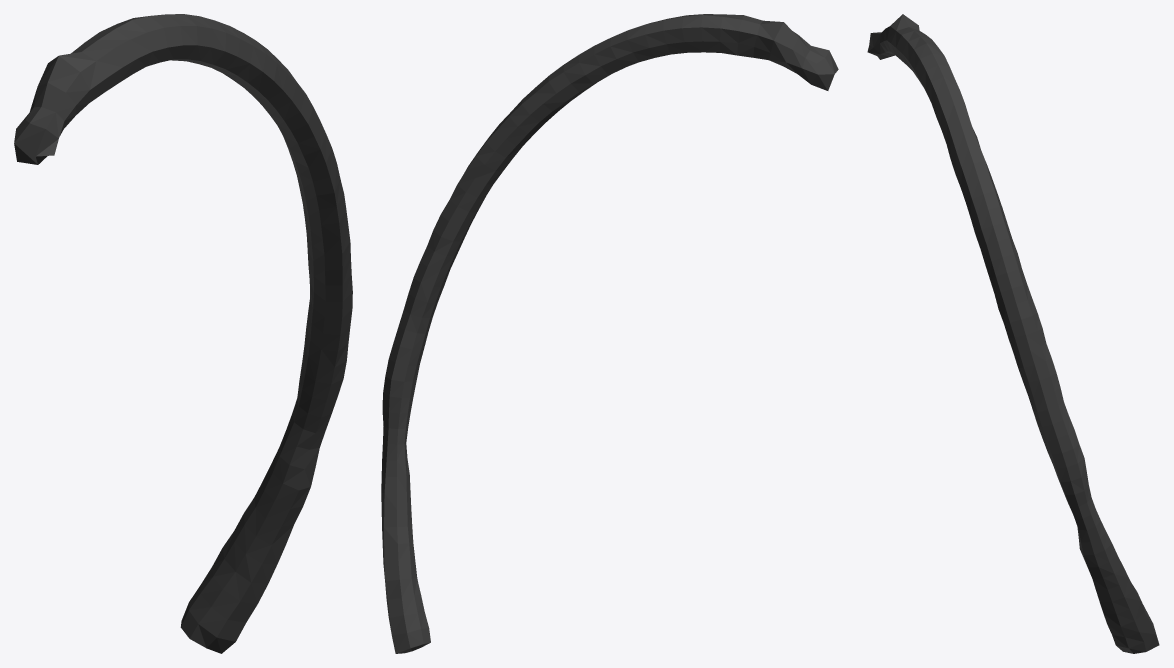
File: Rib_9.glb
3 views of the same model, side by side, from view 1: azimuth 30°, elevation 25°; view 2: azimuth 150°, elevation 25°; view 3: azimuth 270°, elevation 25° (orthographic). The views are drawn at different scales.
Visible parts, largest first — view 1: Rib_9; view 2: Rib_9; view 3: Rib_9.
Boxes of the visible parts, left/top/right/bottom form: Rib_9: left=14, top=14, right=352, bottom=653; Rib_9: left=381, top=14, right=838, bottom=653; Rib_9: left=867, top=14, right=1159, bottom=653.
Bounding box in the file's own units: 4.7 × 7.73 × 3.85.
Materials: 1 (1 with a texture image).
